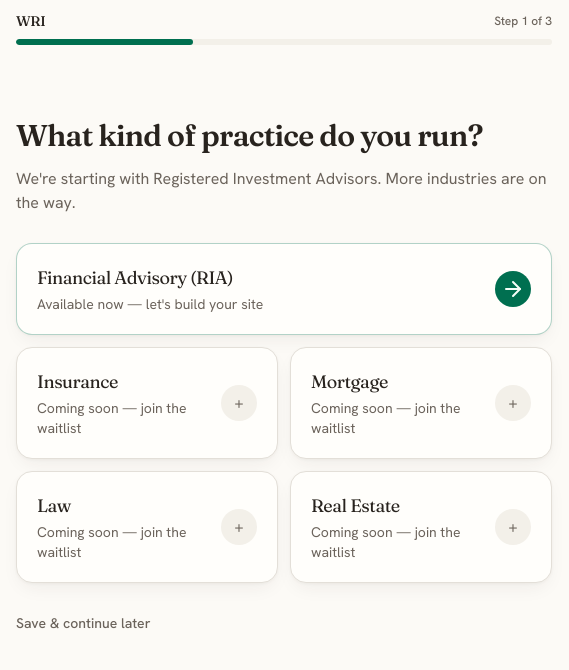
Test: <OnboardingFlow /> › surfaces a server error on the industry step instead of advancing
The image size is (569, 670).
Click the button "Financial Advisory (RIA)" at point(135, 277), box x1=16 y1=243 x2=552 y2=335
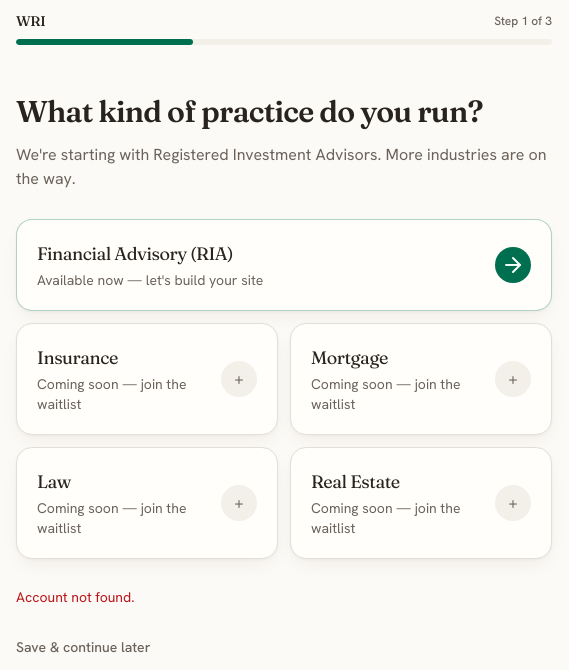
Expected: the heading "What kind of practice do you run?" is shown, x1=16 y1=93 x2=552 y2=131
Now the message shows "Account not found", box x1=16 y1=588 x2=135 y2=606
